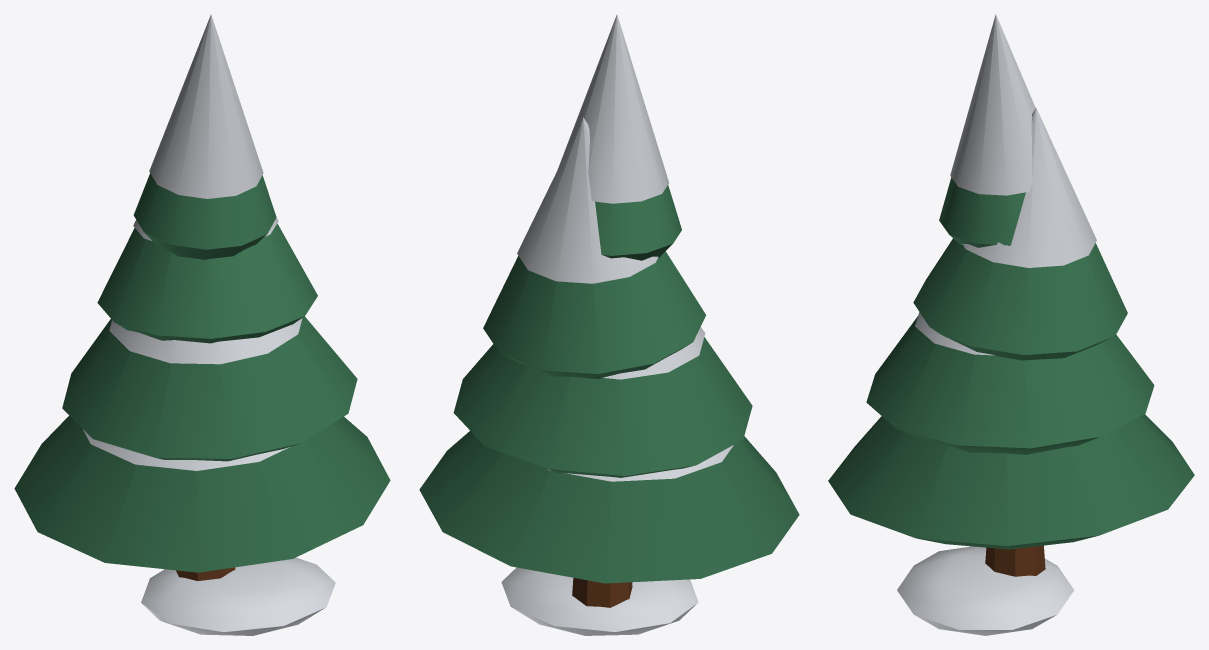
Rendered from p_tree_snowpine_2.glb.
The picture shows the model from 3 angles, left to right: view 1: azimuth 30°, elevation 25°; view 2: azimuth 150°, elevation 25°; view 3: azimuth 270°, elevation 25°; orthographic projection. The views are drawn at different scales.
Visible parts, largest first — view 1: body; view 2: body; view 3: body.
Boxes of the visible parts, left/top/right/bottom form: body: left=14, top=14, right=390, bottom=635; body: left=419, top=14, right=799, bottom=635; body: left=828, top=14, right=1194, bottom=635.
Size of the model in its own units: 3.71 by 6.55 by 3.72.
